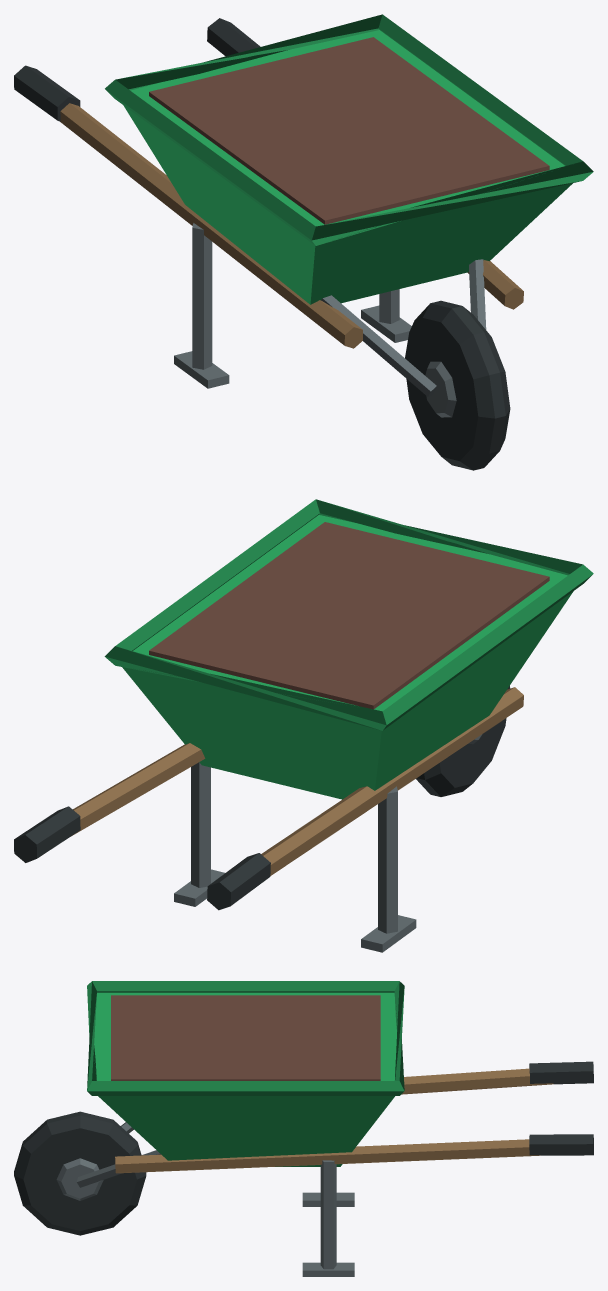
File: wheelbarrow.glb
The picture shows the model from 3 angles, top to bottom: view 1: azimuth 30°, elevation 25°; view 2: azimuth 150°, elevation 25°; view 3: azimuth 270°, elevation 25°; orthographic projection. The views are drawn at different scales.
Parts seen in each view (by area): view 1: wheelbarrow-m; view 2: wheelbarrow-m; view 3: wheelbarrow-m.
Boxes of the visible parts, x1,y1,x2,y2 form: wheelbarrow-m: (14, 14, 593, 470); wheelbarrow-m: (14, 499, 593, 952); wheelbarrow-m: (14, 981, 593, 1276).
Bounding box in the file's own units: 1.06 × 0.965 × 2.45.
